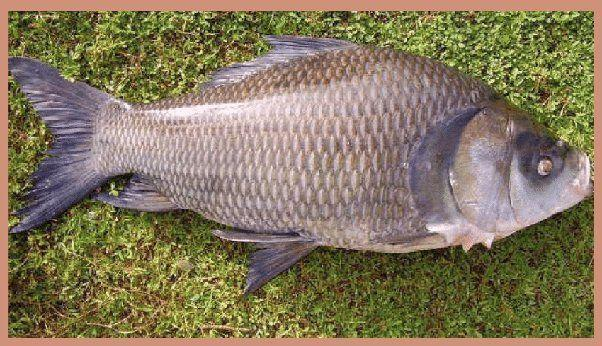Indian Carp: (7, 38, 595, 301)
